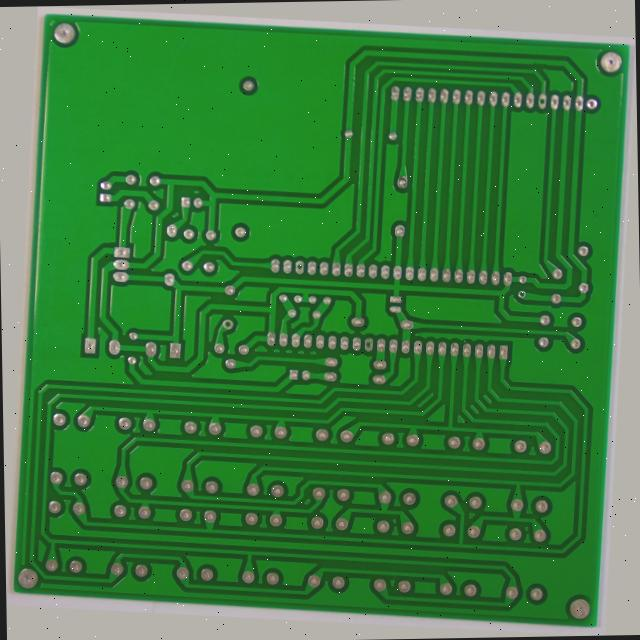missing_hole: (531, 61, 546, 78), (364, 333, 379, 349), (213, 322, 227, 339), (287, 255, 299, 272), (525, 270, 538, 283)
